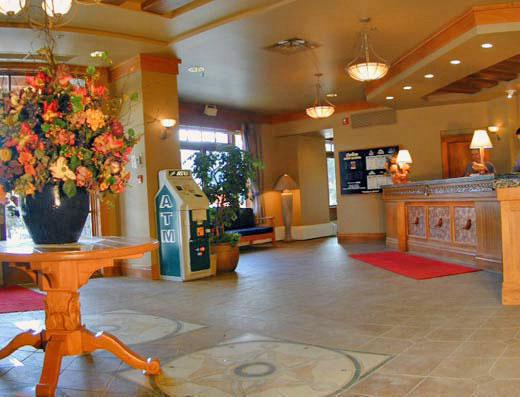Matera: (196, 146, 253, 274)
